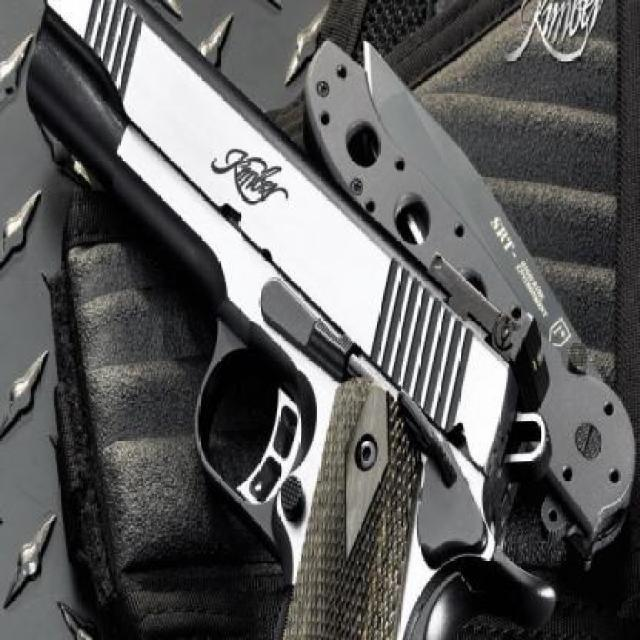gun: (27, 1, 554, 640)
